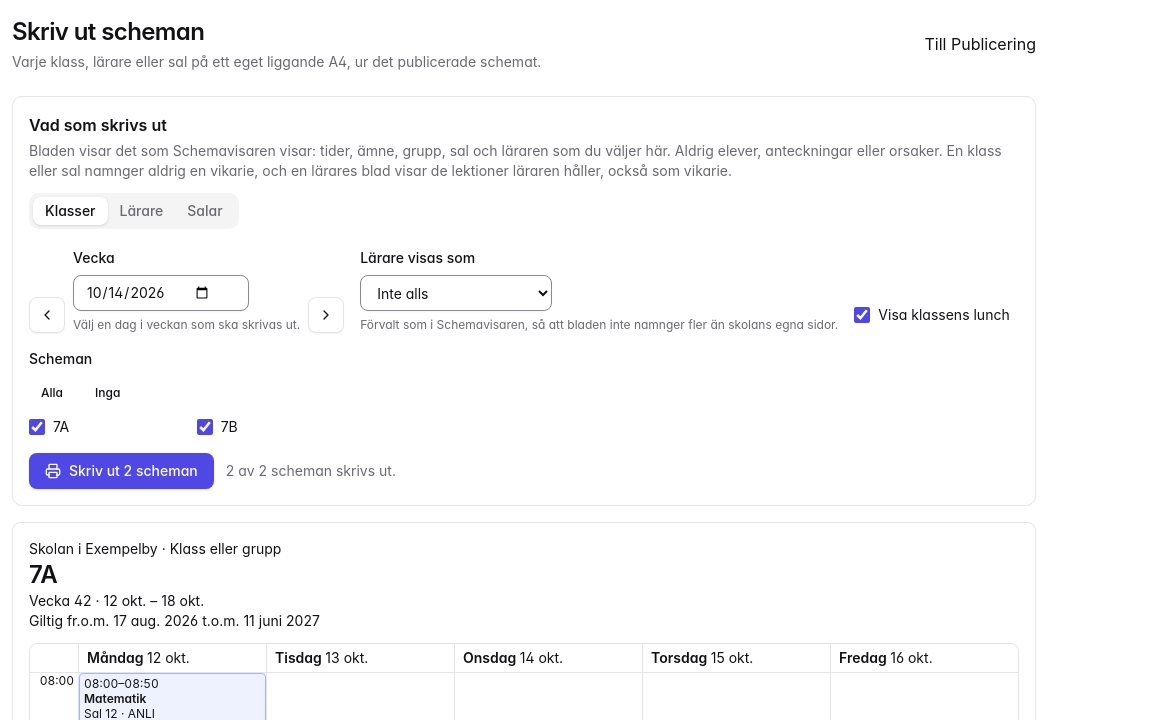
Test case: /admin/publishing/print › says why a teachers' set is empty
Expected: the heading "7A" is shown, [29,560,58,589]
Click the tab "Lärare". click: (141, 211)
box: [108,197,175,225]
(page scrolled)
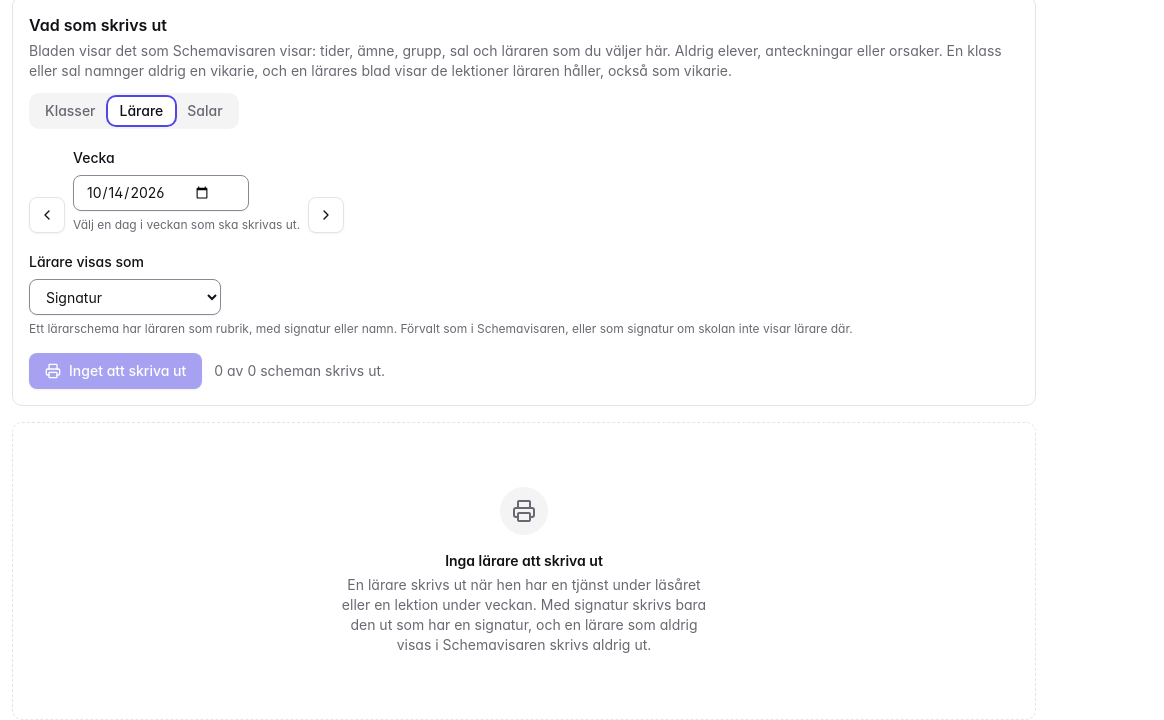
Expected: the heading "Inga lärare att skriva ut" is shown, [445,551,603,571]
Expected: the text "aldrig visas i Schemavisaren" is shown, [342,576,706,653]
